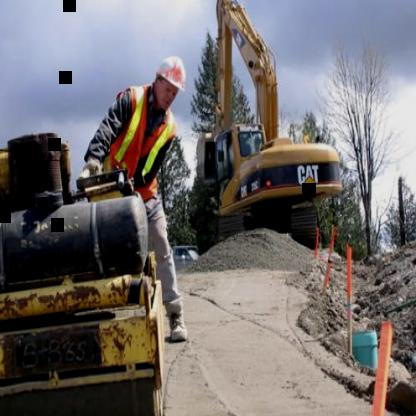helmet: (150, 50, 188, 110)
